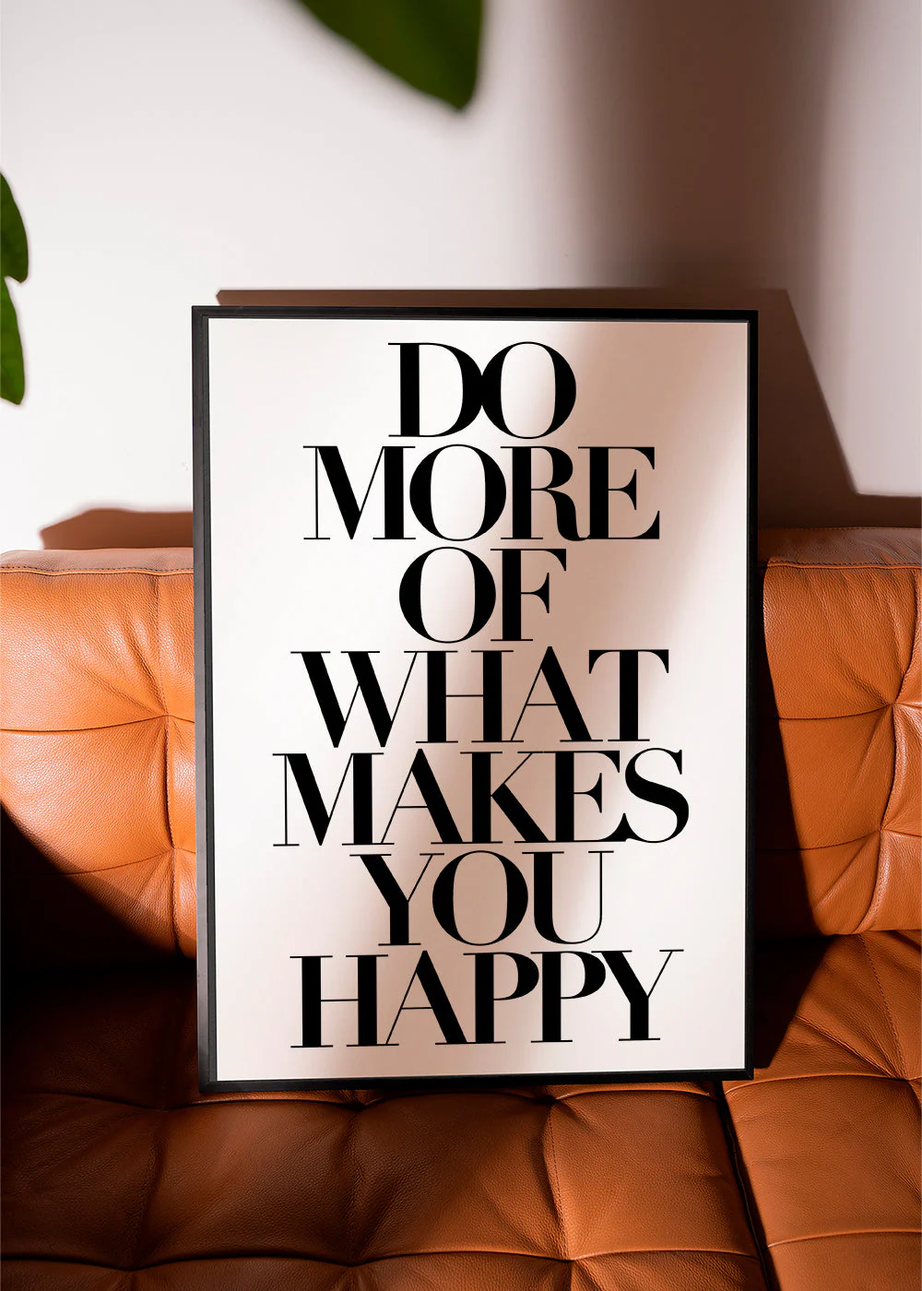painting: (194, 301, 757, 1089)
